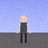person: (17, 15, 30, 43)
